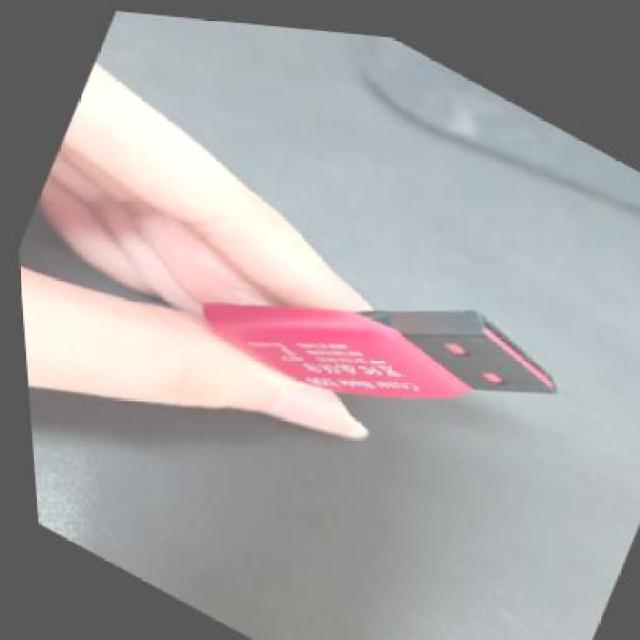Flashdisk: (176, 176, 572, 496)
